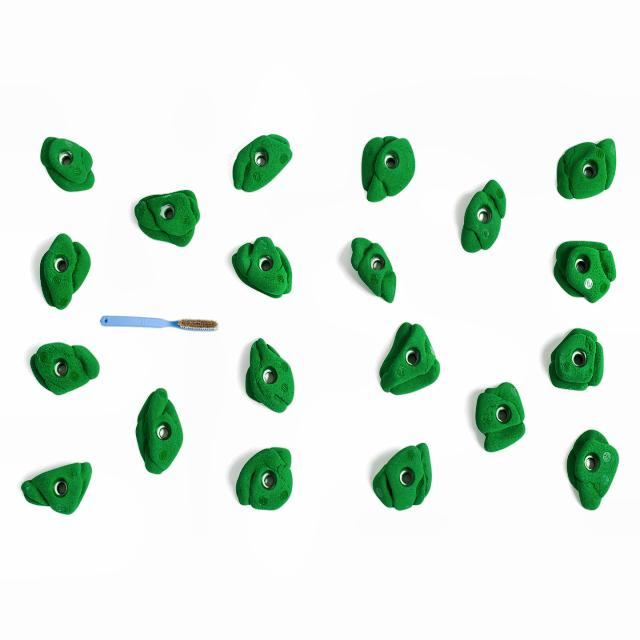Hold: (560, 424, 617, 514), (384, 316, 448, 396), (238, 332, 297, 416), (22, 460, 99, 518), (549, 135, 623, 195), (227, 131, 295, 196), (231, 446, 300, 510), (366, 443, 434, 505), (136, 386, 184, 473), (470, 384, 531, 452), (227, 234, 292, 297), (460, 173, 510, 254), (130, 188, 202, 244), (357, 128, 416, 190), (342, 234, 397, 300), (550, 238, 616, 292), (38, 239, 90, 307), (547, 324, 604, 386), (32, 342, 102, 391), (44, 133, 98, 190)
